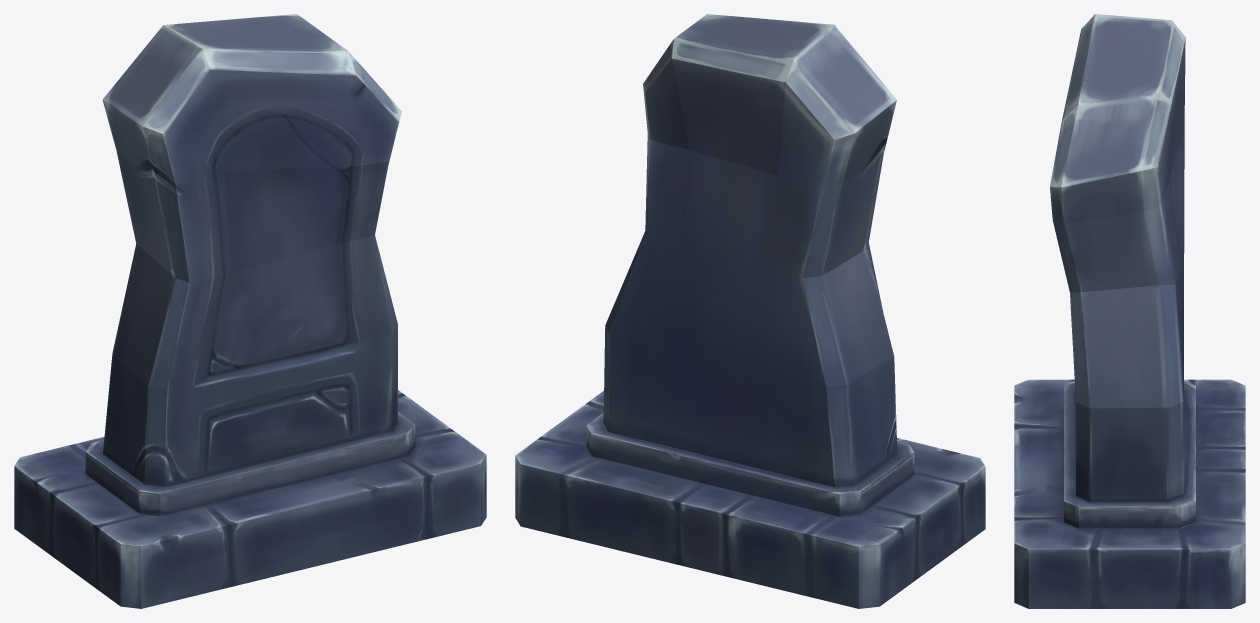
The model's file is gravestone2_1.fbx.
3 renders of one model, left to right at view 1: azimuth 30°, elevation 25°; view 2: azimuth 150°, elevation 25°; view 3: azimuth 270°, elevation 25°, orthographic. The views are drawn at different scales.
Visible parts, largest first — view 1: Cube.005; view 2: Cube.005; view 3: Cube.005.
Part boxes in pixels (<box>): Cube.005: <box>14,14,486,608</box>; Cube.005: <box>515,14,985,608</box>; Cube.005: <box>1014,14,1245,608</box>.
Size of the model in its own units: 237 by 312 by 136.
